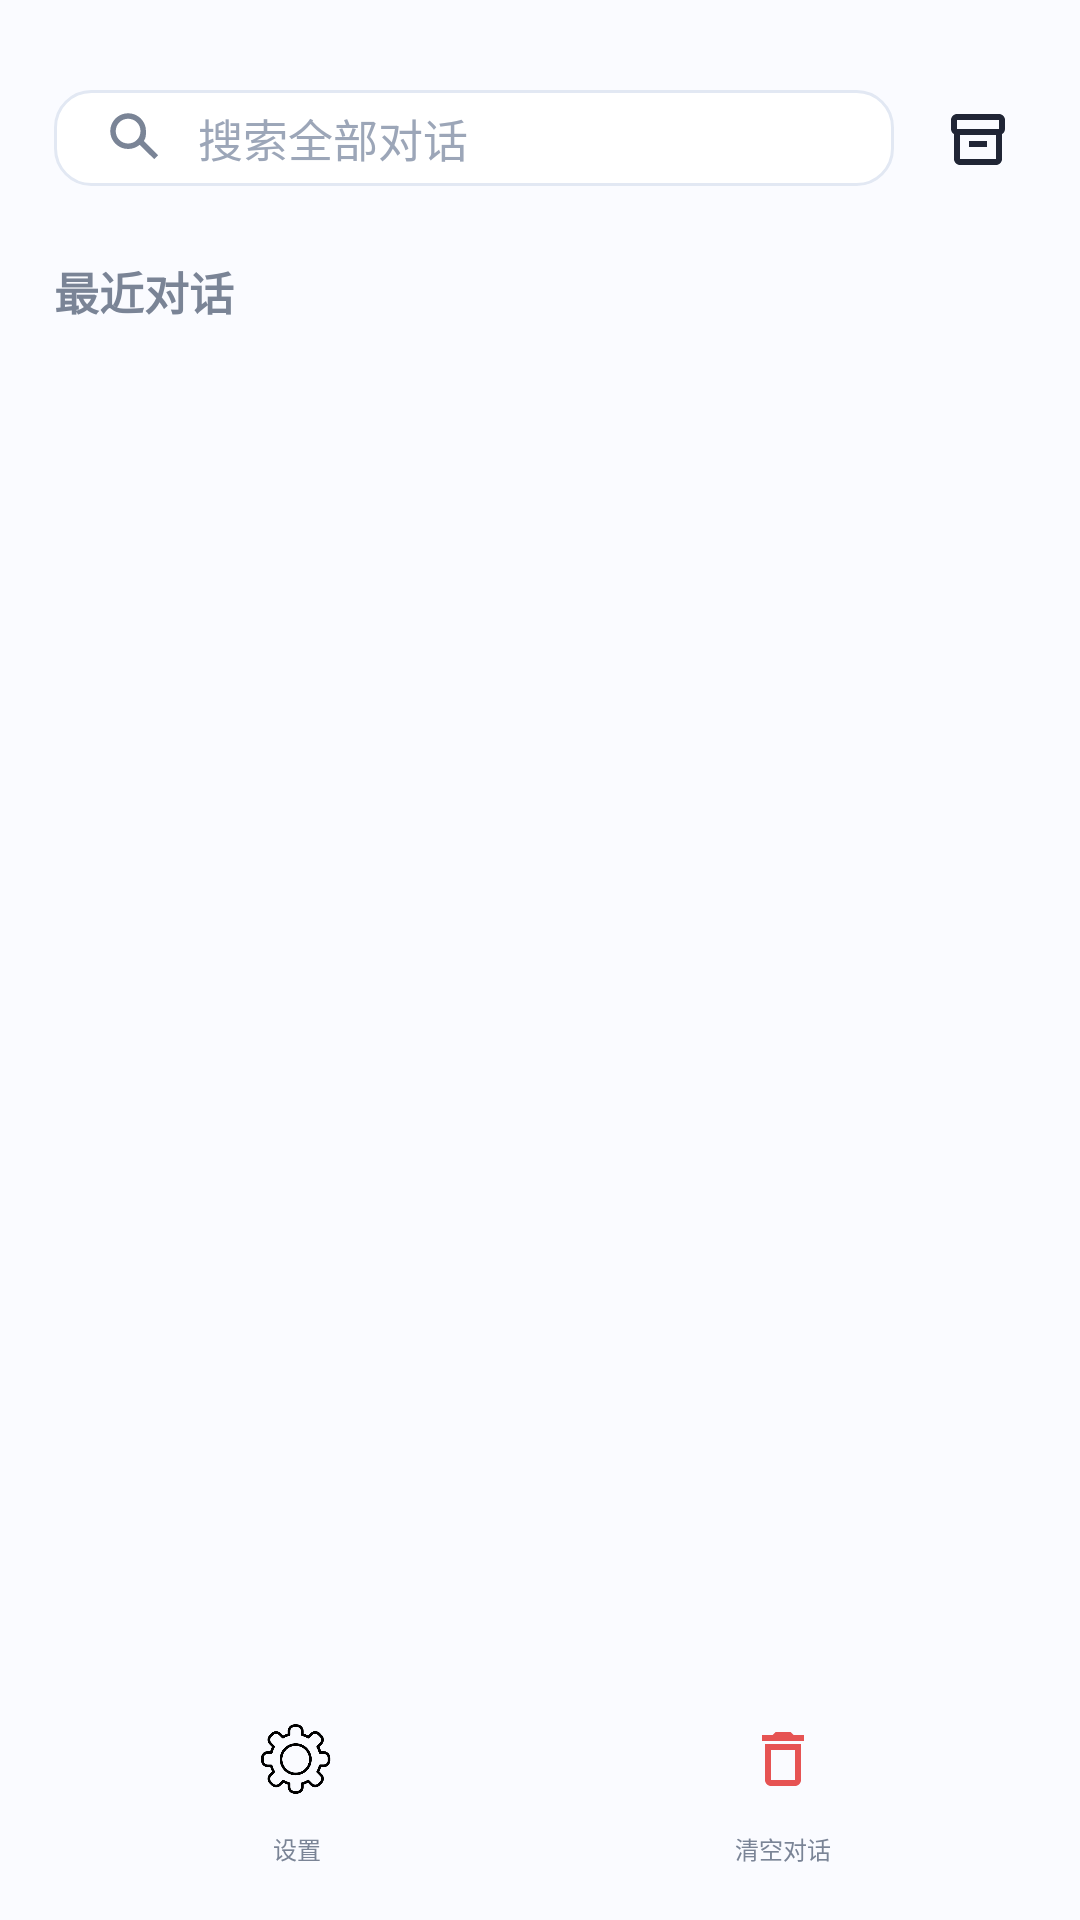

Where to tap for icons on this 1080 x 1920 app screen, as (x,y):
search: (134,136)
查看归档: (978,139)
